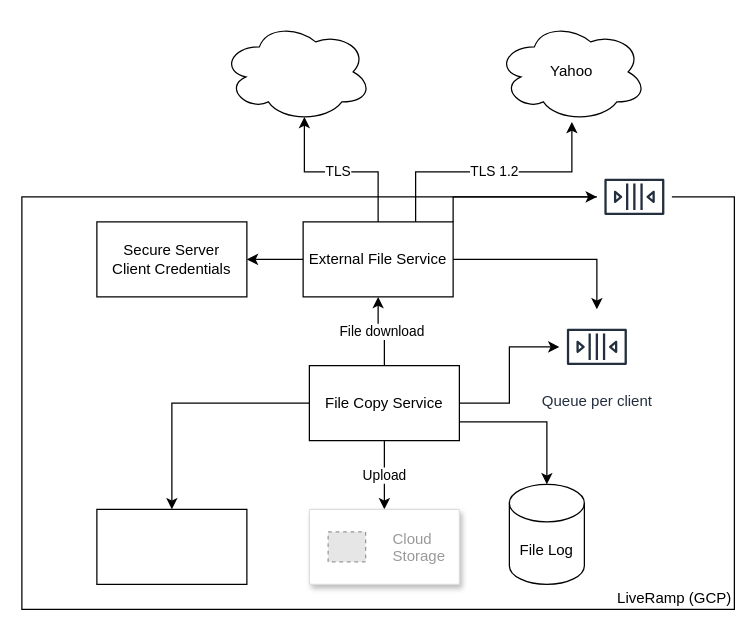
This 756x631 diagram has some shape labels left out. Grey dashed boxes stand in for pictures. Here are the shapes that lost their labels. From the top down, the centre of each, then its label:
(x=296, y=71): AWS
(x=634, y=196): Polling Queue
(x=171, y=546): Notification Service
